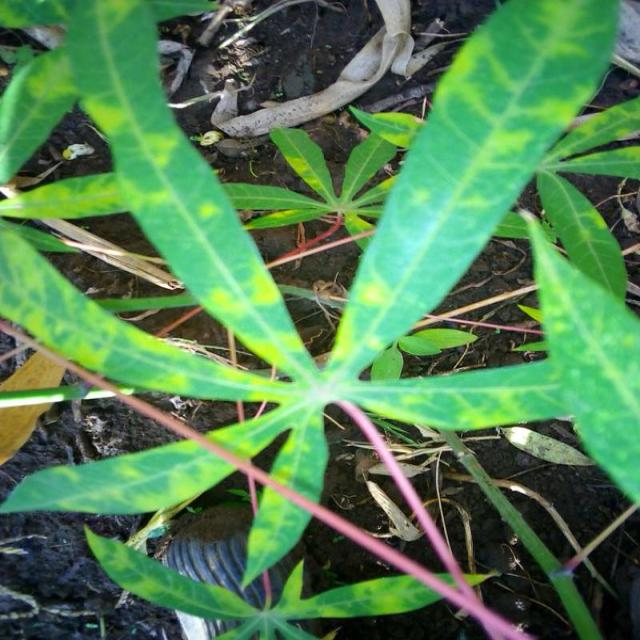cassava leaf: (2, 0, 638, 597), (326, 0, 622, 380)
